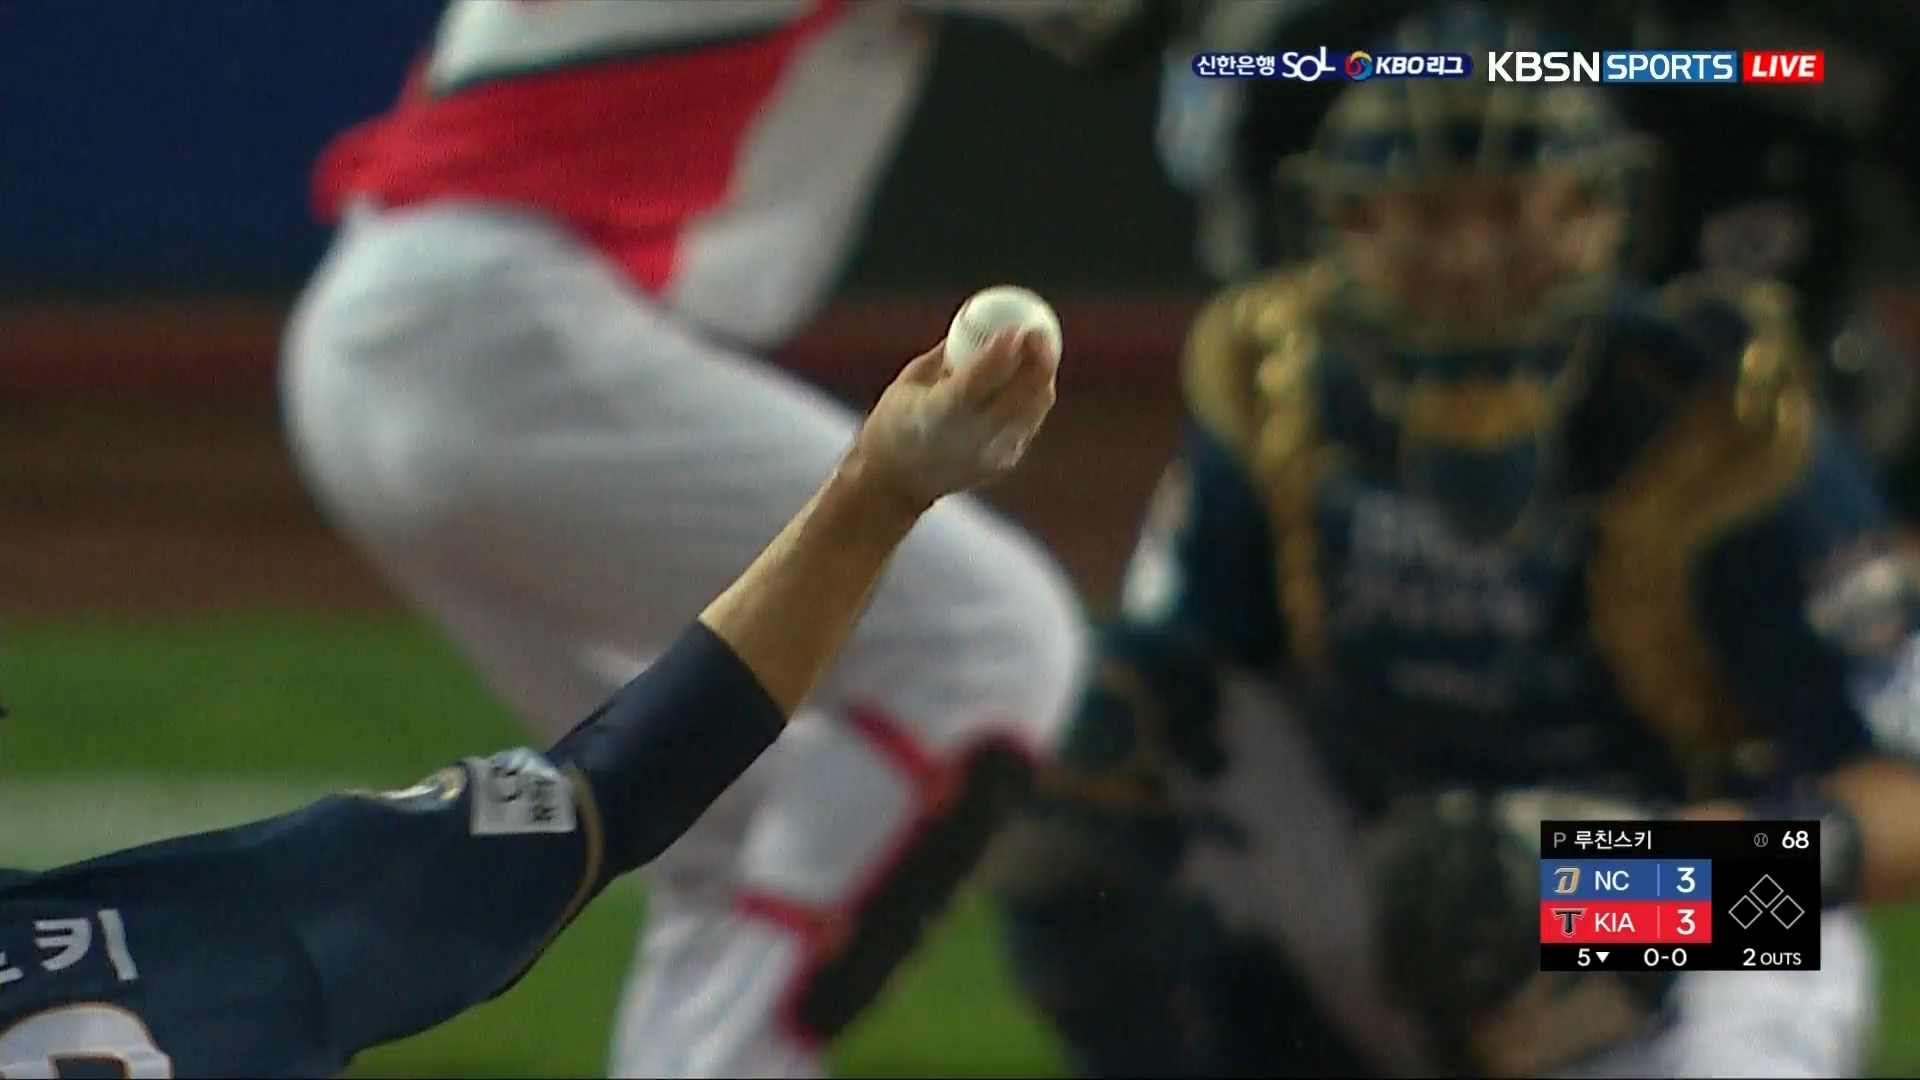zoomin_hand: (612, 280, 1075, 880)
